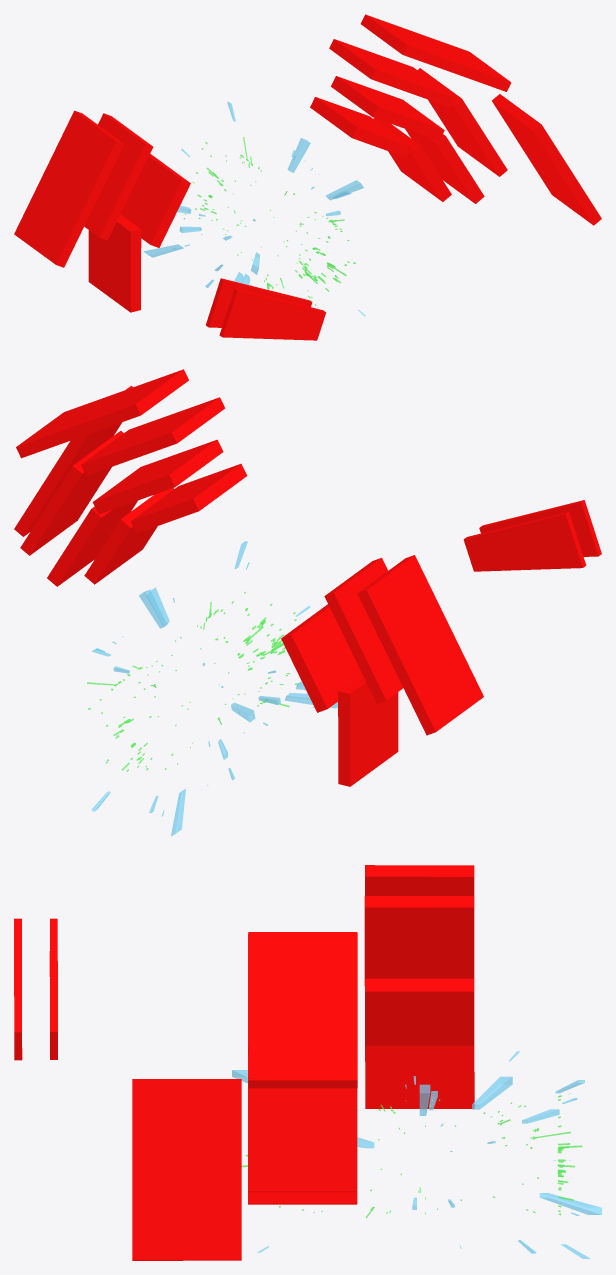
3 views of the same model, one above another, from view 1: azimuth 30°, elevation 25°; view 2: azimuth 150°, elevation 25°; view 3: azimuth 270°, elevation 25° (orthographic). The views are drawn at different scales.
Parts seen in each view (by area): view 1: MuonChambers_V1, HBRecHits_V2, EERecHits_V2; view 2: MuonChambers_V1, HBRecHits_V2, EERecHits_V2; view 3: MuonChambers_V1, HBRecHits_V2.
Part boxes in pixels (bbox=[...]): MuonChambers_V1: bbox=[14, 14, 601, 340]; HBRecHits_V2: bbox=[143, 101, 365, 316]; EERecHits_V2: bbox=[183, 142, 355, 305]; MuonChambers_V1: bbox=[14, 369, 601, 786]; HBRecHits_V2: bbox=[91, 541, 337, 836]; EERecHits_V2: bbox=[88, 591, 300, 771]; MuonChambers_V1: bbox=[14, 865, 474, 1260]; HBRecHits_V2: bbox=[232, 1051, 601, 1258].
Size of the model in its own units: 15.8 by 9.45 by 13.51.
